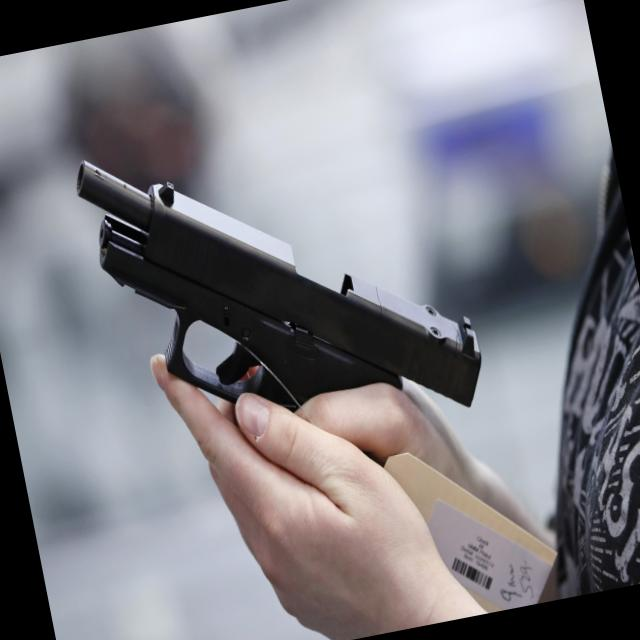Weapon: (59, 78, 524, 566)
